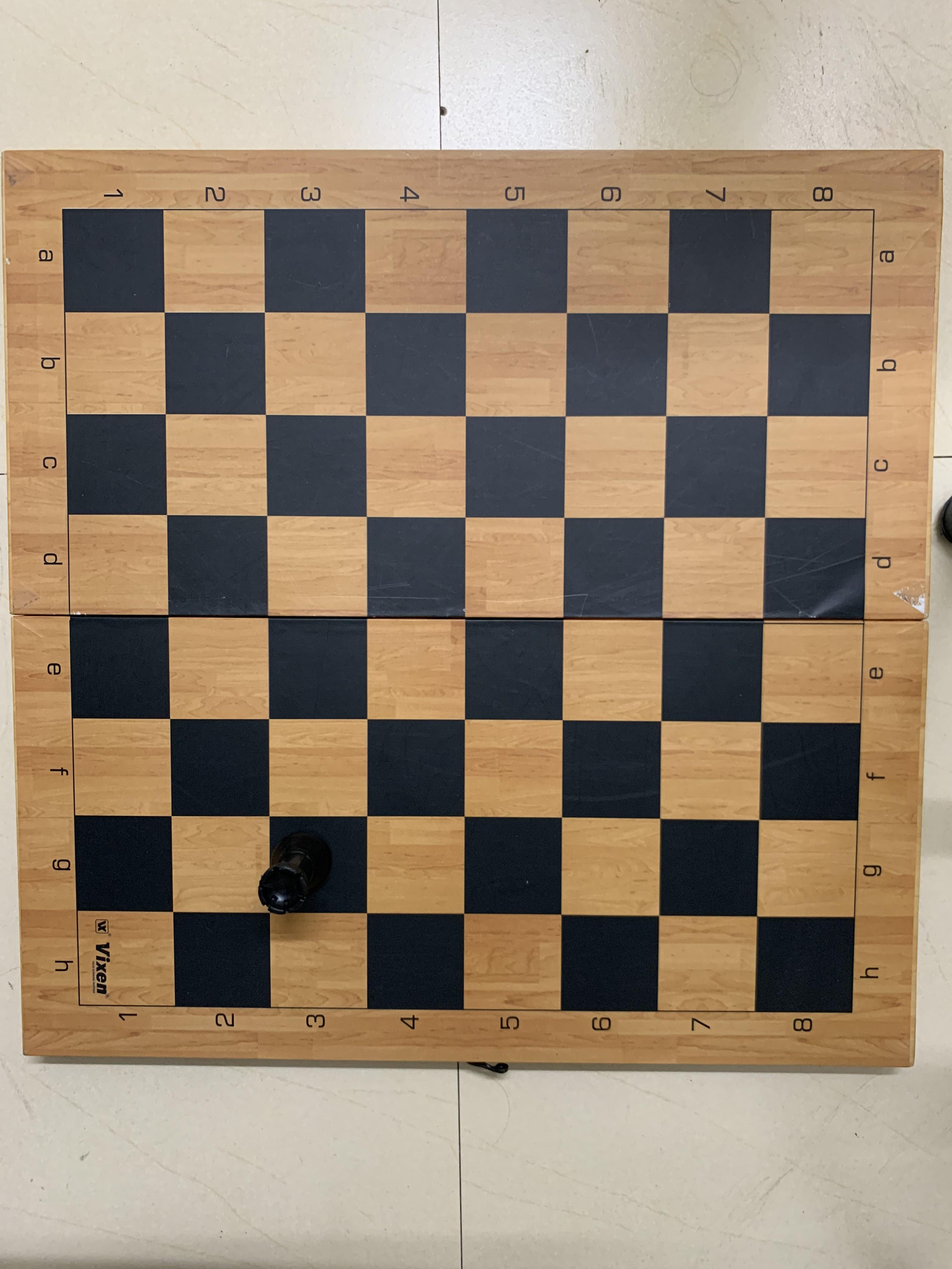black_rook: (257, 814, 368, 914)
